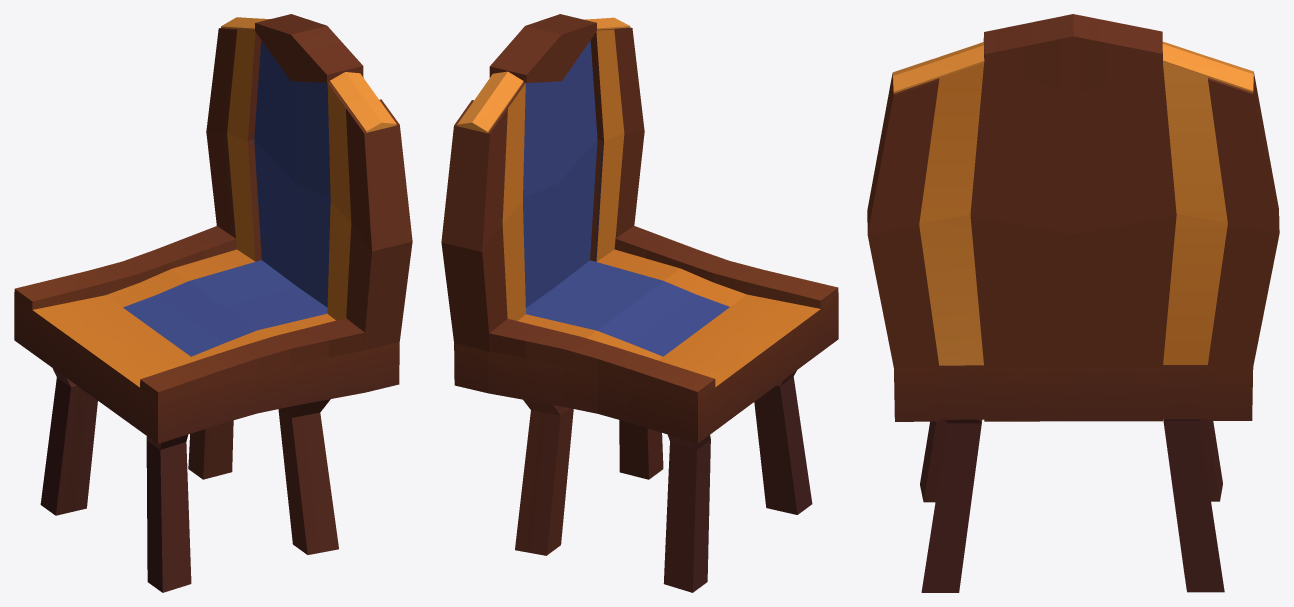
The model's file is Prop_CafeChair.fbx.
3 views of the same model, side by side, from view 1: azimuth 30°, elevation 25°; view 2: azimuth 150°, elevation 25°; view 3: azimuth 270°, elevation 25° (orthographic). The views are drawn at different scales.
Visible parts, largest first — view 1: Chair; view 2: Chair; view 3: Chair.
Part boxes in pixels (box(x1,y1,x2,y2)): Chair: box(14, 14, 412, 592); Chair: box(441, 14, 838, 592); Chair: box(867, 14, 1279, 592).
Size of the model in its own units: 37.93 by 68.84 by 43.85.
